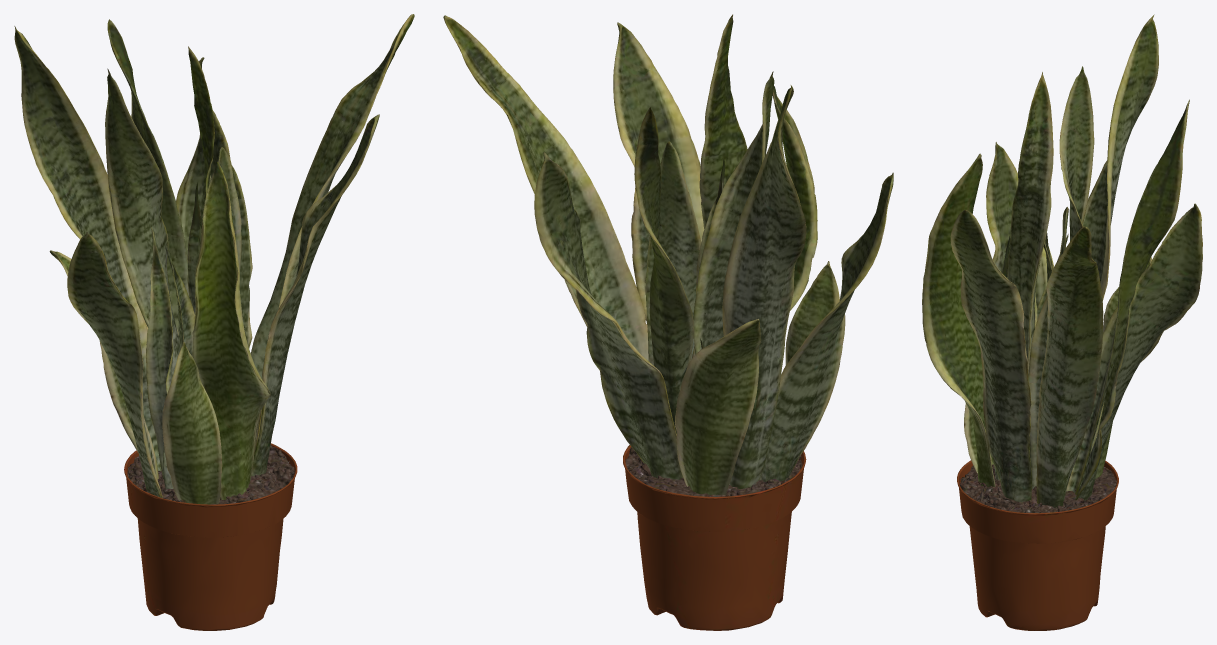
File: sansevieria_trifasciata_roslina_doniczkowa_00421029.glb
3 views of the same model, side by side, from view 1: azimuth 30°, elevation 25°; view 2: azimuth 150°, elevation 25°; view 3: azimuth 270°, elevation 25° (orthographic). The views are drawn at different scales.
Parts seen in each view (by area): view 1: sansevieria_trifasciata_roslina_doniczkowa_00421029; view 2: sansevieria_trifasciata_roslina_doniczkowa_00421029; view 3: sansevieria_trifasciata_roslina_doniczkowa_00421029.
Part boxes in pixels (x1,y1,x2,y2): sansevieria_trifasciata_roslina_doniczkowa_00421029: (14,14,414,630); sansevieria_trifasciata_roslina_doniczkowa_00421029: (443,14,893,630); sansevieria_trifasciata_roslina_doniczkowa_00421029: (922,14,1202,630).
Size of the model in its own units: 0.3498 by 0.4994 by 0.2388.
Materials: 1 (1 with a texture image).
